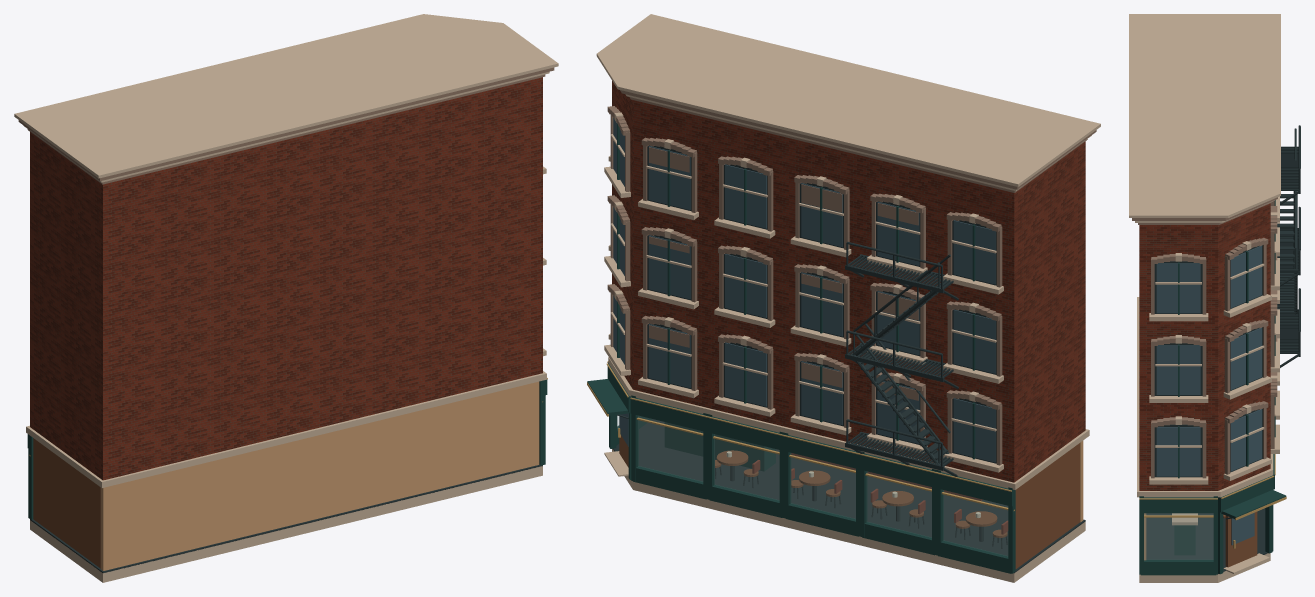
Rendered from mayak-cafe.glb.
The picture shows the model from 3 angles, left to right: view 1: azimuth 30°, elevation 25°; view 2: azimuth 150°, elevation 25°; view 3: azimuth 270°, elevation 25°; orthographic projection. The views are drawn at different scales.
Parts seen in each view (by area): view 1: brick, stone, plaster, oak, cap, iron, frame; view 2: brick, stone, sash, cap, iron, frame, glass, oak, brass, leather; view 3: stone, brick, sash, iron, cap, frame, glass, oak, brass.
Part boxes in pixels (left/top/right/bottom): brick: left=30, top=77, right=542, bottom=480; stone: left=14, top=14, right=558, bottom=582; plaster: left=100, top=381, right=539, bottom=570; oak: left=33, top=438, right=100, bottom=568; cap: left=18, top=67, right=554, bottom=184; iron: left=30, top=465, right=542, bottom=573; frame: left=27, top=379, right=547, bottom=519; brick: left=612, top=81, right=1085, bottom=482; stone: left=596, top=14, right=1100, bottom=582; sash: left=613, top=117, right=995, bottom=462; cap: left=607, top=90, right=1096, bottom=465; iron: left=613, top=145, right=1085, bottom=573; frame: left=587, top=123, right=1015, bottom=573; glass: left=617, top=416, right=1007, bottom=555; oak: left=619, top=435, right=1079, bottom=568; brass: left=587, top=361, right=1014, bottom=510; leather: left=752, top=453, right=1008, bottom=534; stone: left=1129, top=14, right=1280, bottom=582; brick: left=1139, top=203, right=1270, bottom=490; sash: left=1156, top=245, right=1261, bottom=545; iron: left=1146, top=125, right=1300, bottom=573; cap: left=1132, top=197, right=1277, bottom=478; frame: left=1139, top=200, right=1286, bottom=575; glass: left=1144, top=513, right=1213, bottom=559; oak: left=1223, top=511, right=1257, bottom=567; brass: left=1139, top=454, right=1286, bottom=548.
Bounding box in the file's own units: 16.93 × 14.38 × 6.02.
Materials: 14 (1 with a texture image).
